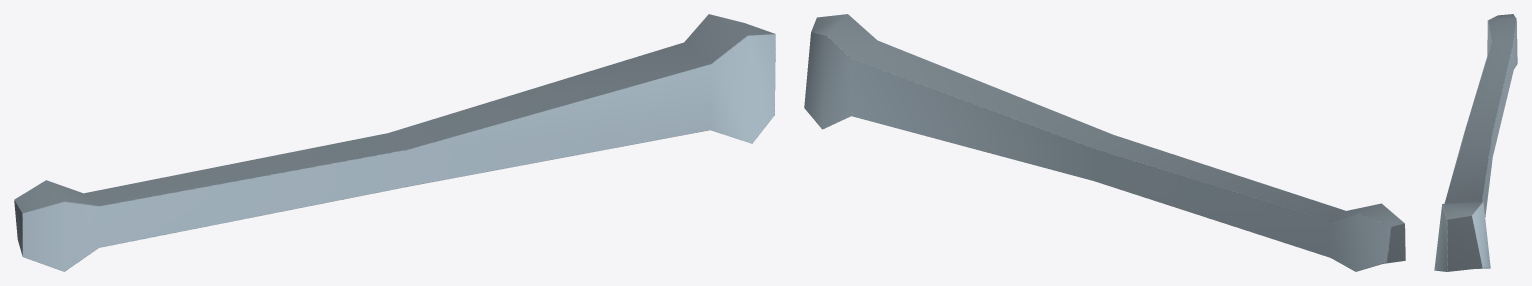
The model's file is Bone6.fbx.
3 renders of one model, left to right at view 1: azimuth 30°, elevation 25°; view 2: azimuth 150°, elevation 25°; view 3: azimuth 270°, elevation 25°, orthographic. The views are drawn at different scales.
Parts seen in each view (by area): view 1: Bone006; view 2: Bone006; view 3: Bone006.
Part boxes in pixels (x1=…): Bone006: x1=14, y1=14, x2=775, y2=271; Bone006: x1=804, y1=14, x2=1405, y2=271; Bone006: x1=1434, y1=14, x2=1517, y2=271.
Size of the model in its own units: 15.6 by 2.43 by 2.16.
